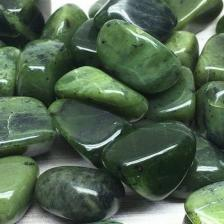green: (102, 121, 196, 201), (97, 19, 181, 93), (49, 99, 132, 168), (54, 66, 148, 122), (35, 166, 125, 223), (17, 39, 74, 107), (171, 134, 224, 199), (94, 0, 178, 41), (0, 97, 56, 157), (146, 66, 195, 124), (40, 4, 88, 46), (72, 18, 100, 68)
